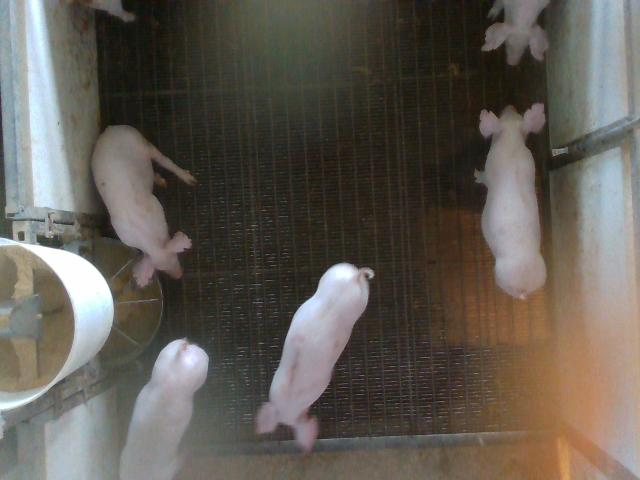pig-3: (255, 262, 374, 452)
